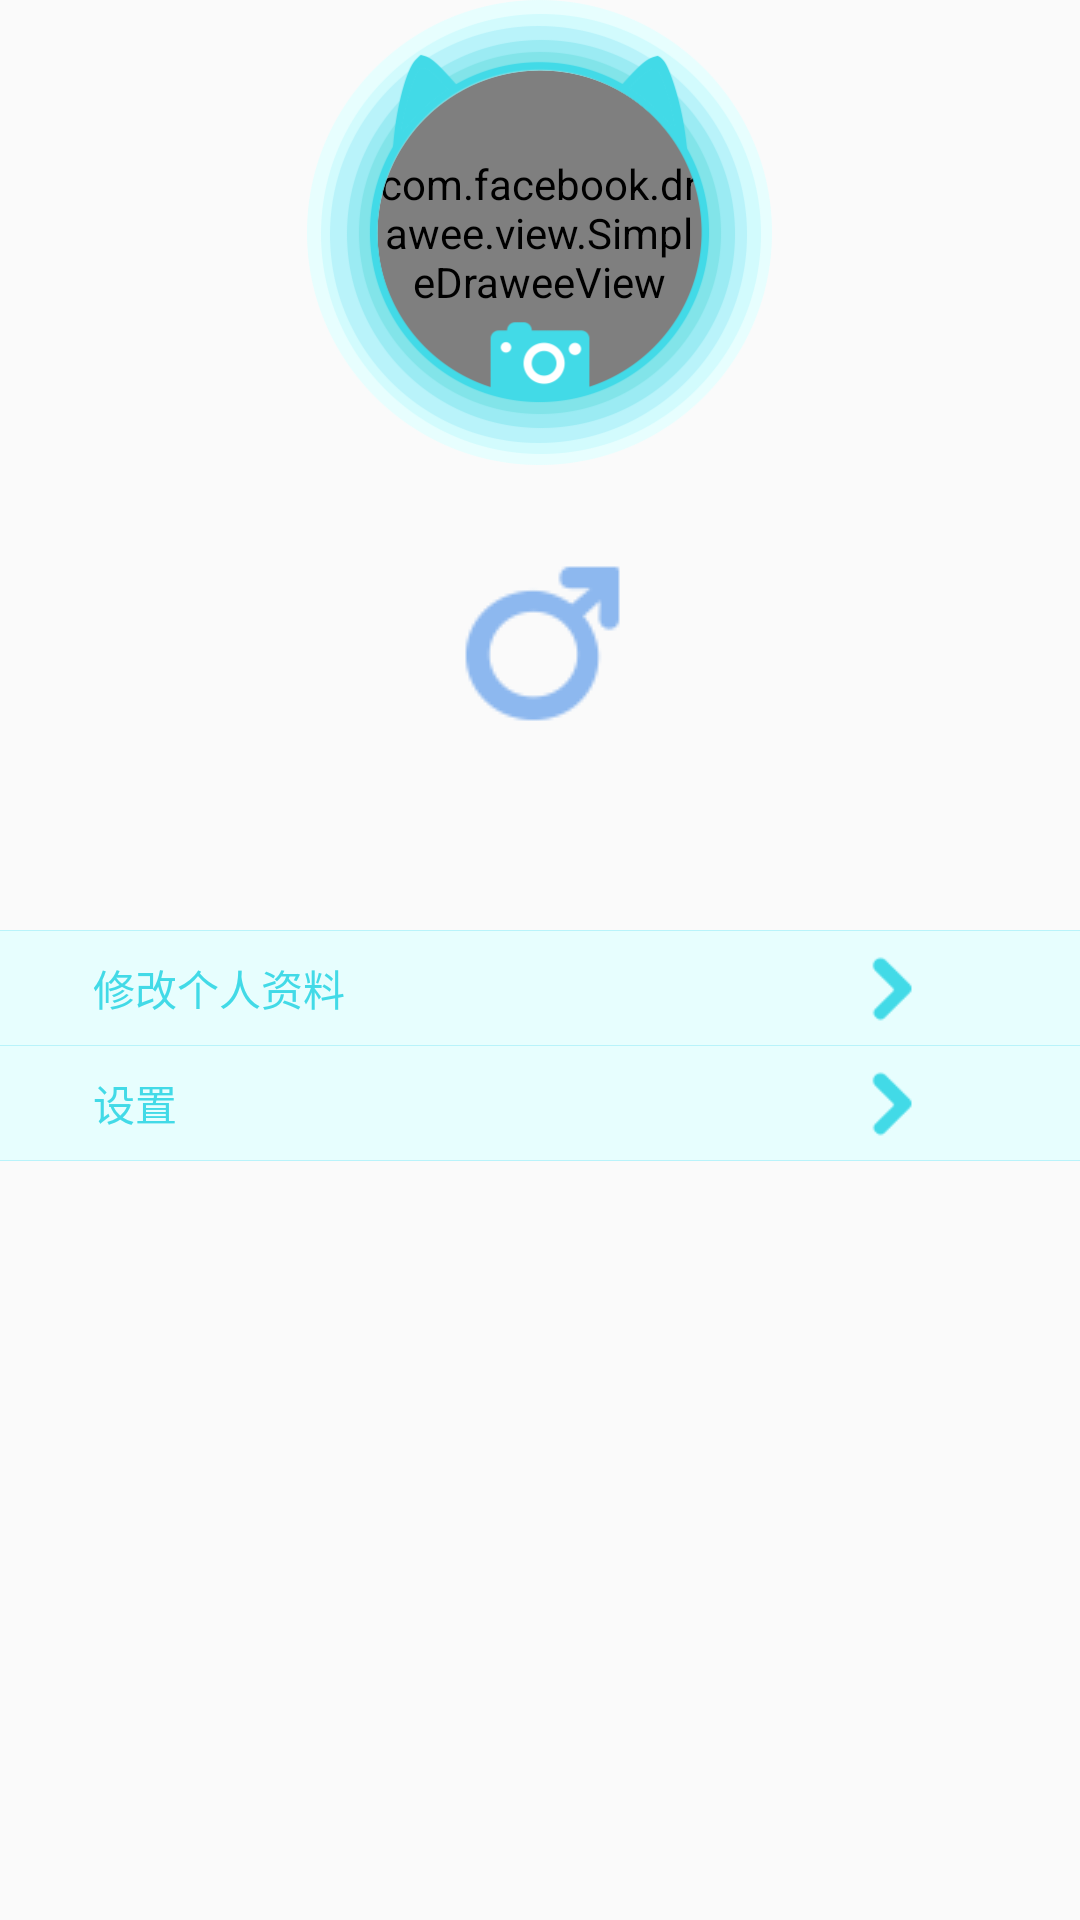

Named icons in this screenshot (1080x1920) and their bounding boxes, rect(x1, y1, x2, y2):
male: rect(465, 566, 620, 721)
more arrow: rect(872, 957, 912, 1021), rect(872, 1072, 912, 1136)
